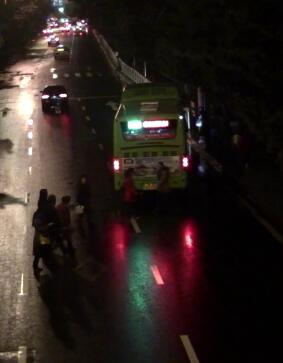bus: (111, 80, 206, 196)
car: (39, 82, 71, 110), (51, 43, 69, 59), (44, 34, 57, 45)
